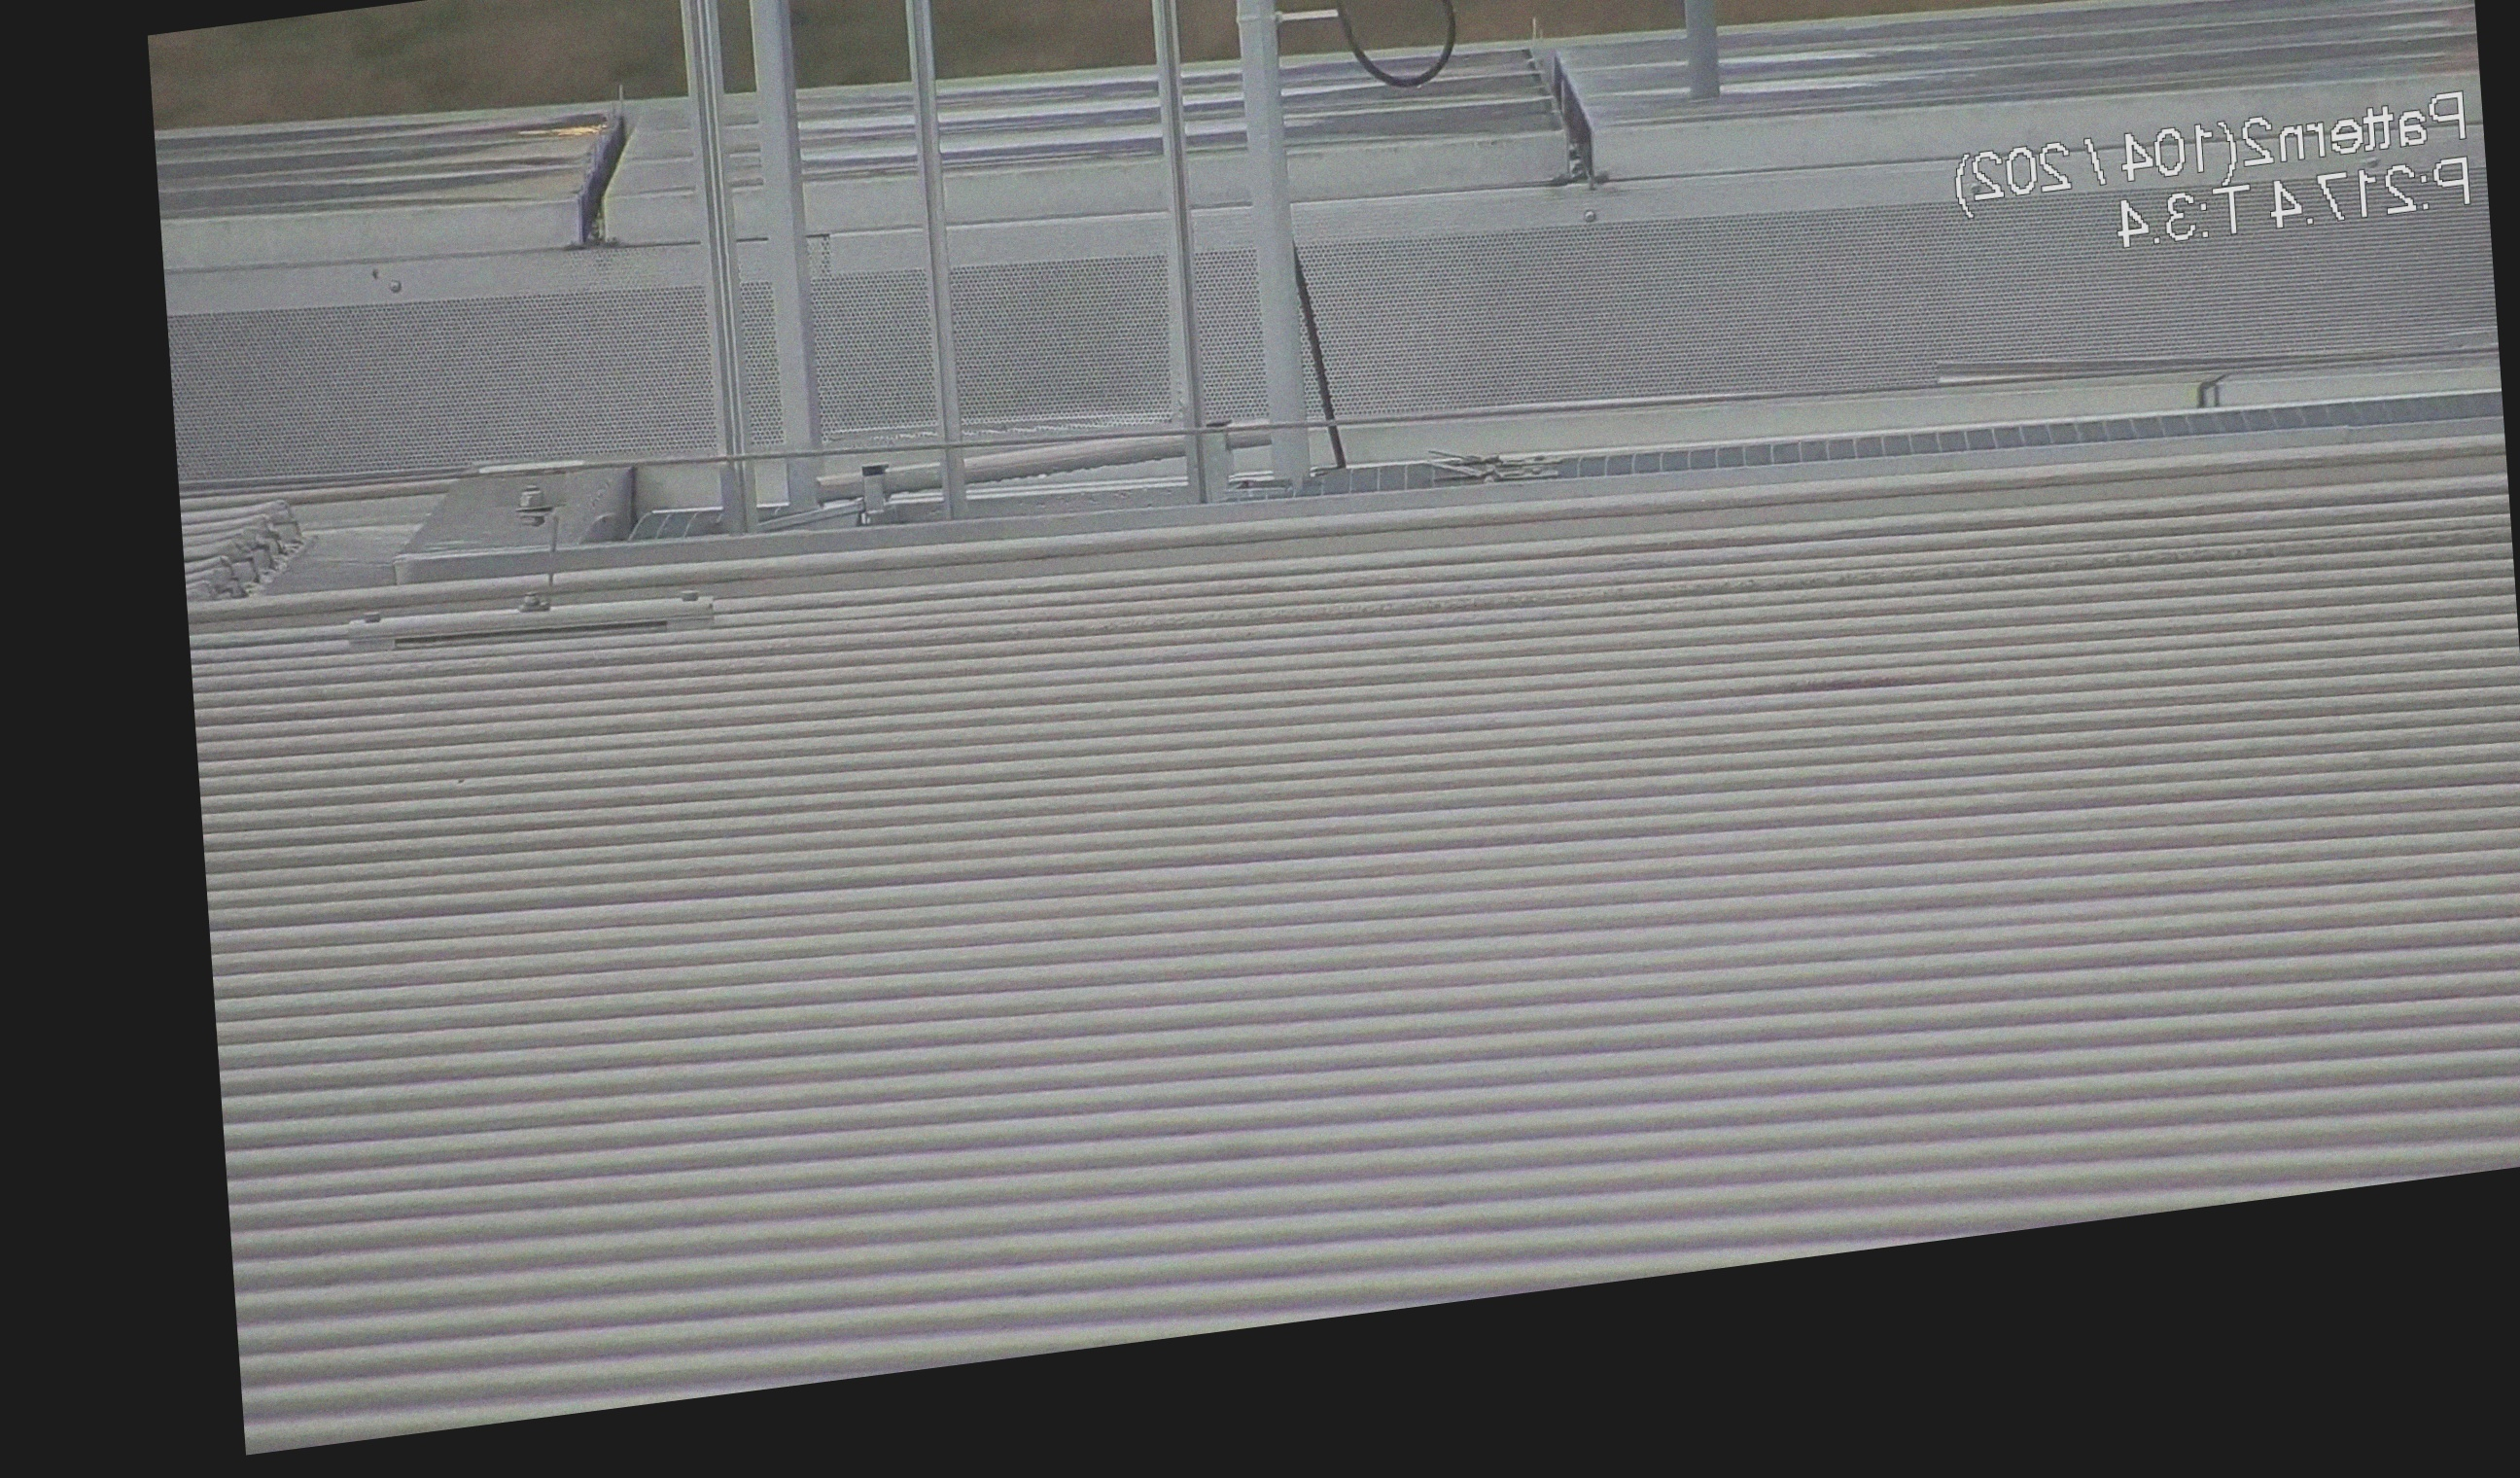Other: (531, 83, 659, 259)
